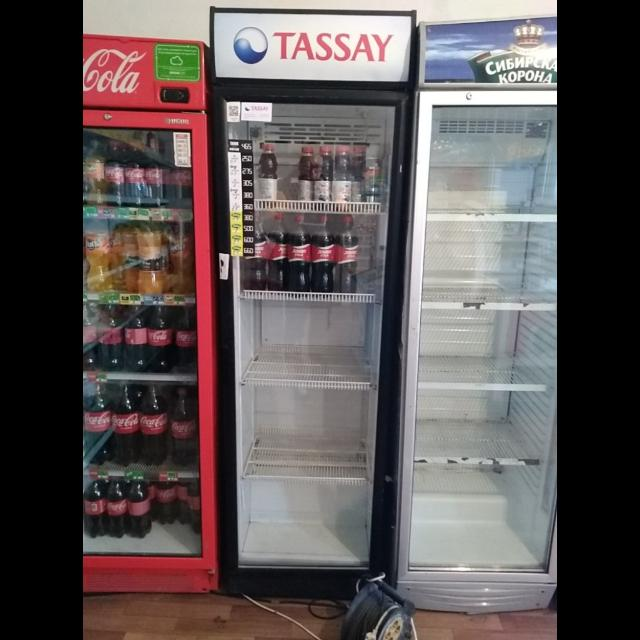Cooling-Display: (208, 8, 416, 590)
